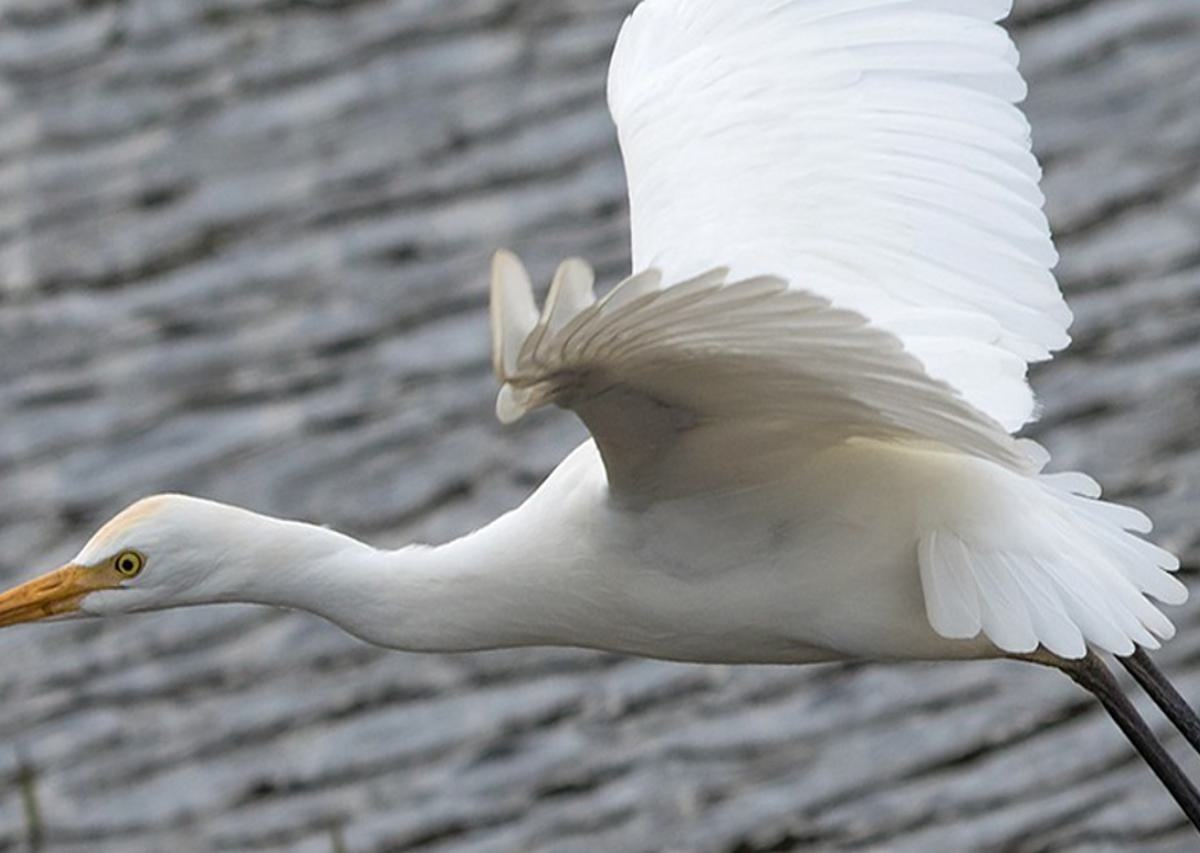egret: (1, 1, 1200, 853)
